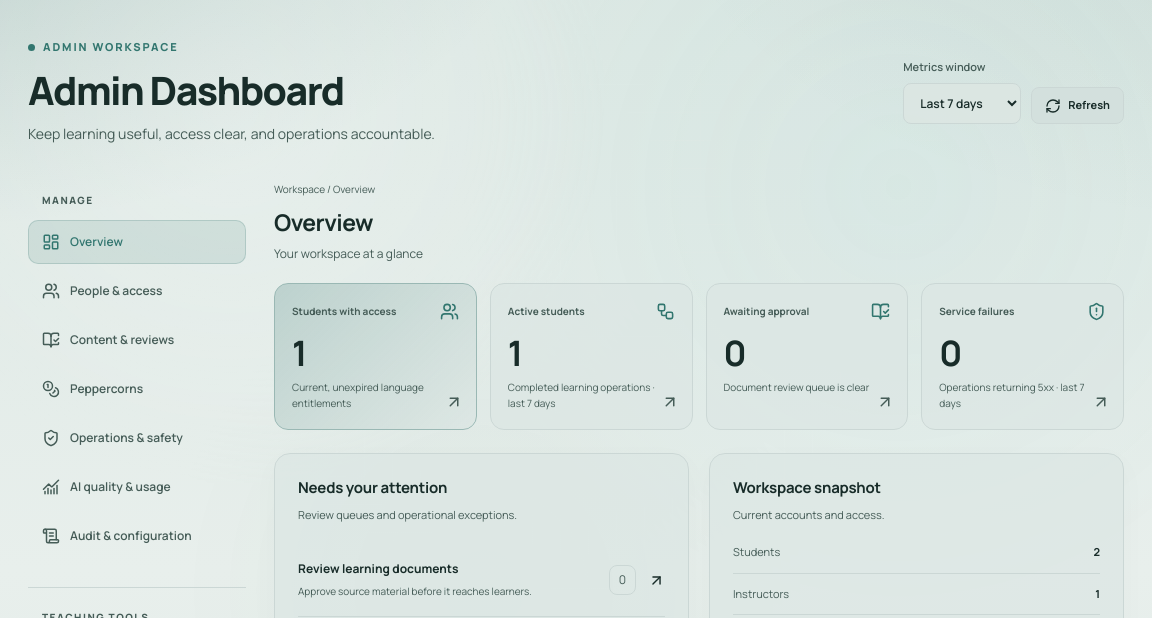
opens the gift workspace from the peppercorn navigation
Expected: the text "Students with access" is shown, [292, 304, 396, 319]
Click the button "Peppercorns".
click(137, 389)  # box [28, 367, 246, 411]
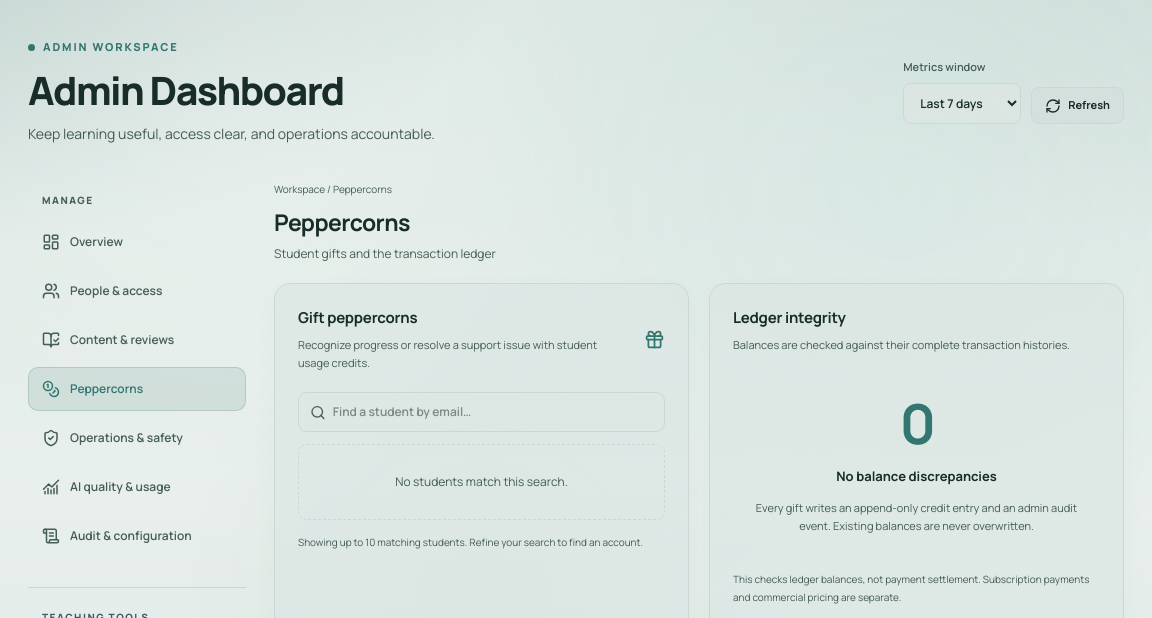
Result: the heading "Gift peppercorns" is shown at [298, 307, 417, 328]
Result: the text "No students match this search." is shown at [298, 444, 665, 520]
Result: the heading "No balance discrepancies" is shown at [836, 467, 997, 485]
